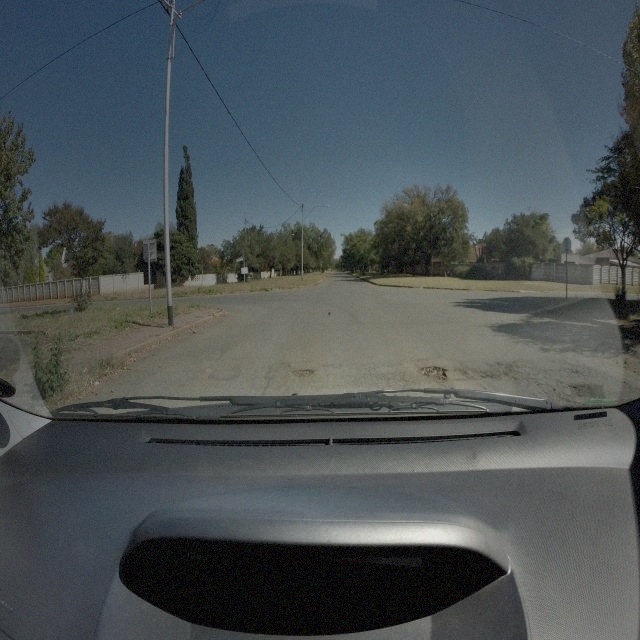pothole: (417, 363, 450, 382), (292, 367, 316, 377)
